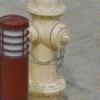Hydrant: (26, 1, 76, 98)
